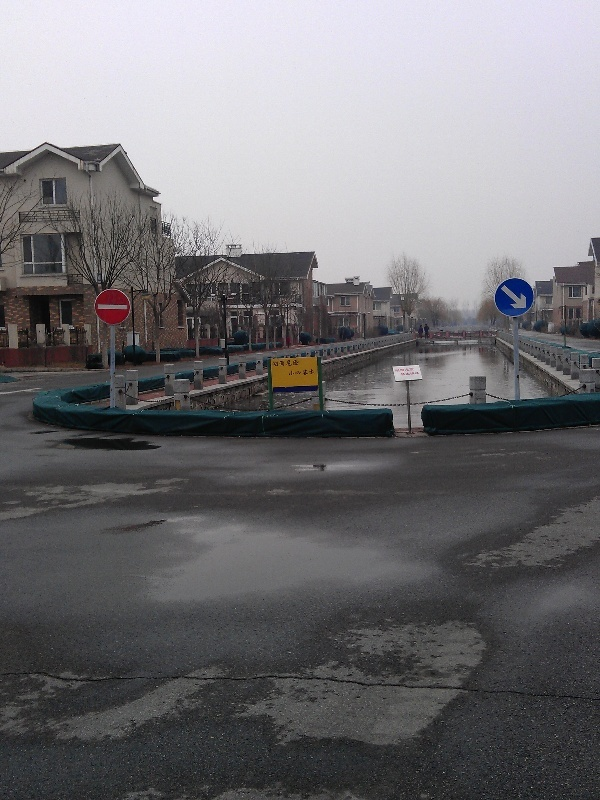text: (273, 360, 288, 368), (289, 370, 304, 376), (289, 360, 300, 368), (401, 371, 416, 376), (401, 368, 415, 373), (305, 370, 315, 376), (395, 368, 400, 373), (417, 371, 420, 376)
